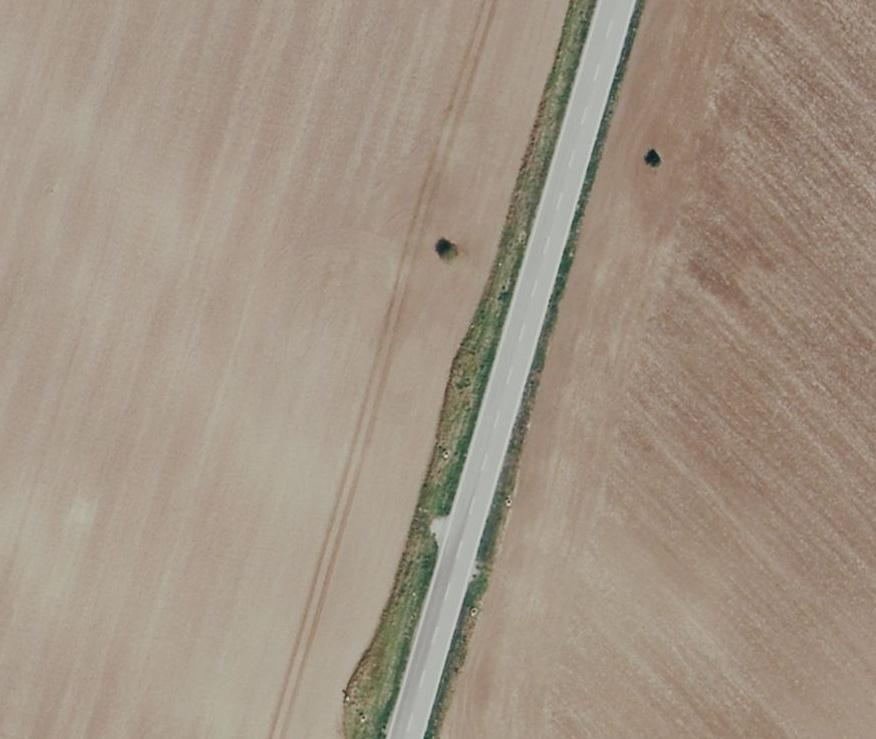field: (0, 2, 566, 735), (441, 0, 876, 736)
